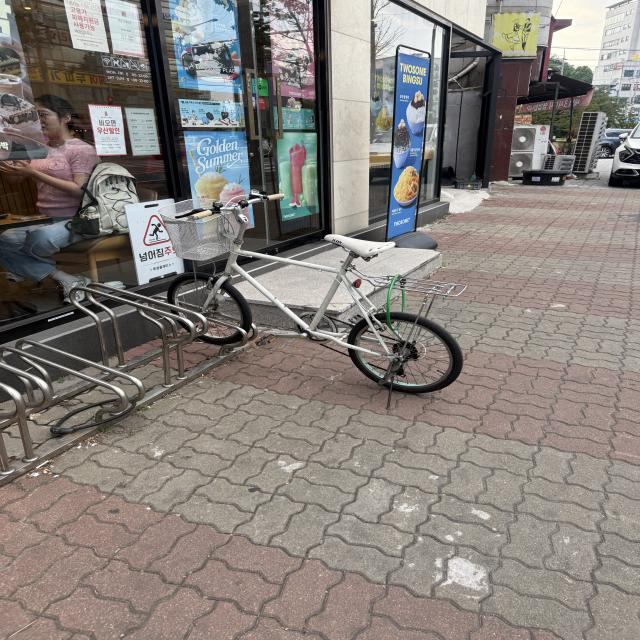bicycle: (154, 182, 483, 407)
